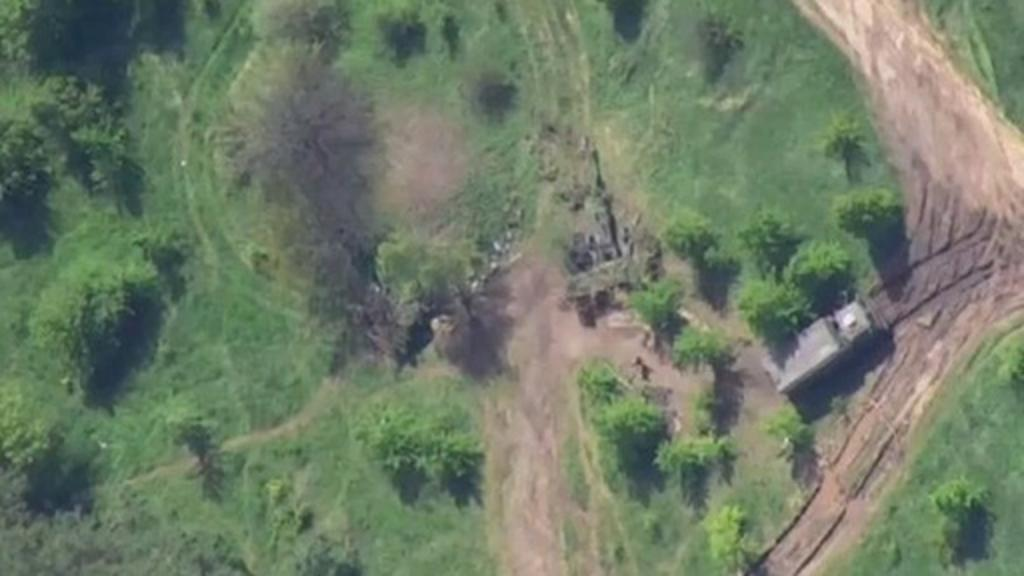ART: (558, 140, 646, 286)
TRUCK: (762, 296, 892, 404)
